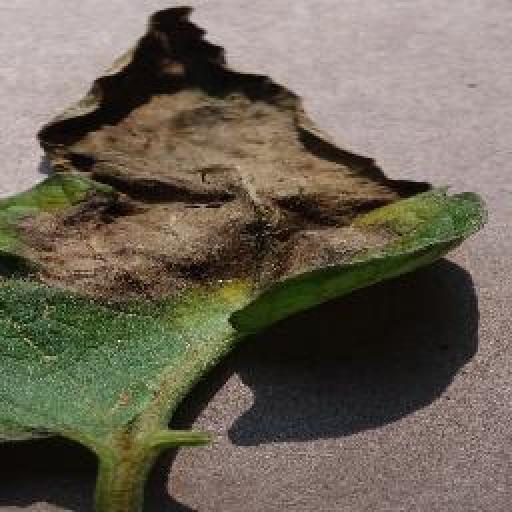disease_tomato: (0, 2, 488, 444)
